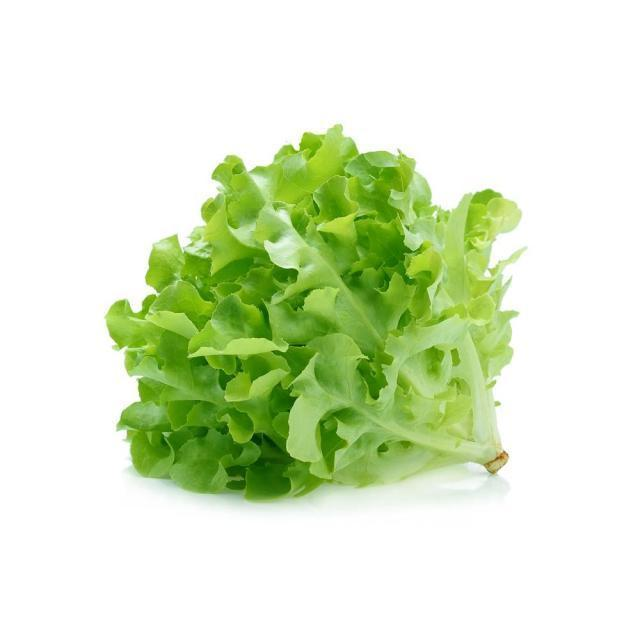Lettuce: (74, 122, 575, 548)
